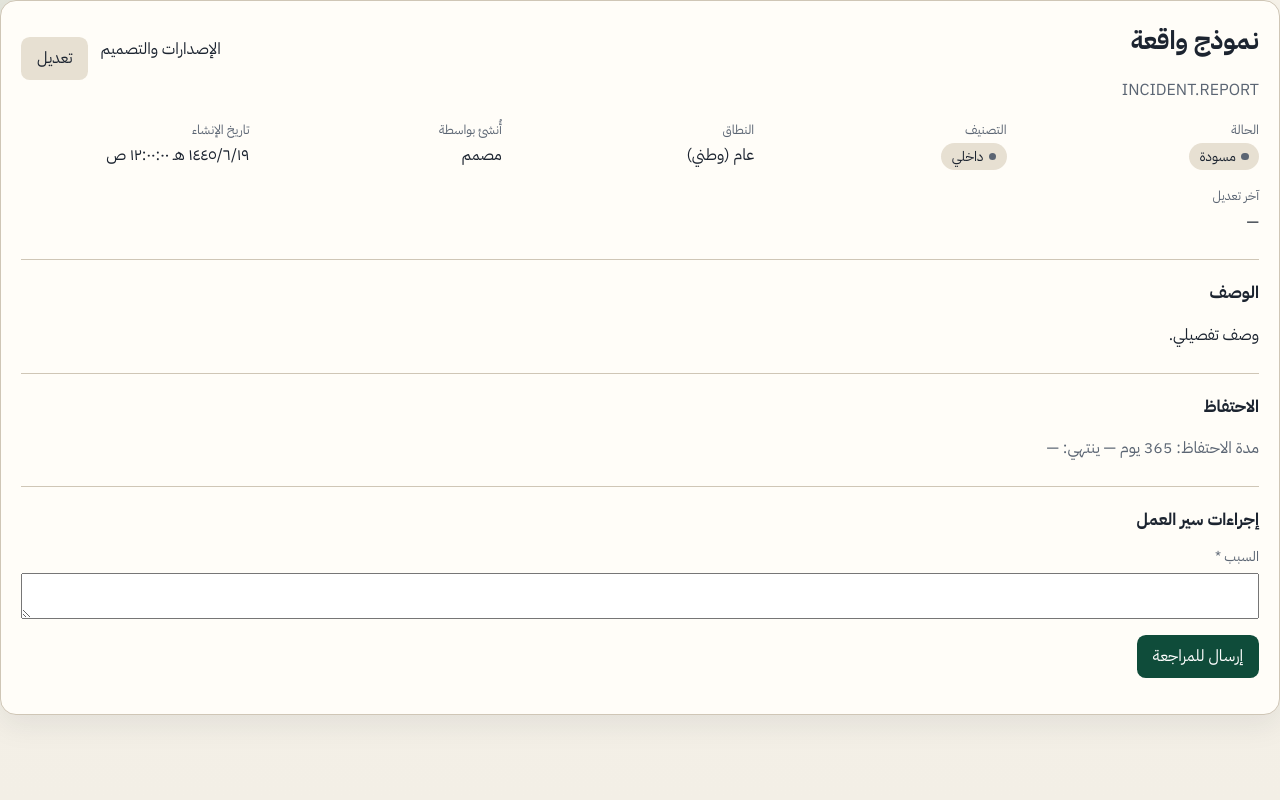
Test: FormDetailPage › requires reason before submit for review
The image size is (1280, 800).
Click the button "إرسال للمراجعة": (1198, 657) top-left (1137, 635), bottom-right (1259, 678)
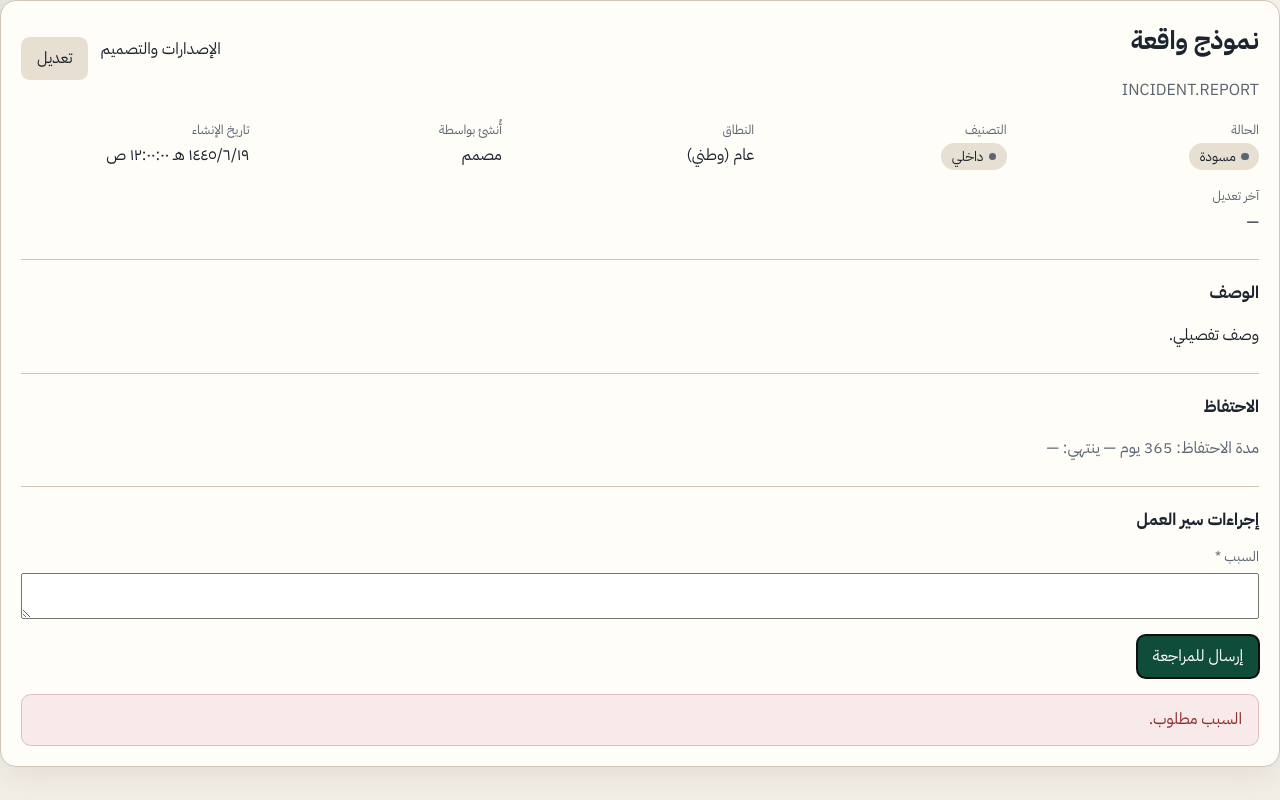
Check: the message reads "السبب مطلوب.", box top-left (1149, 708), bottom-right (1242, 732)
